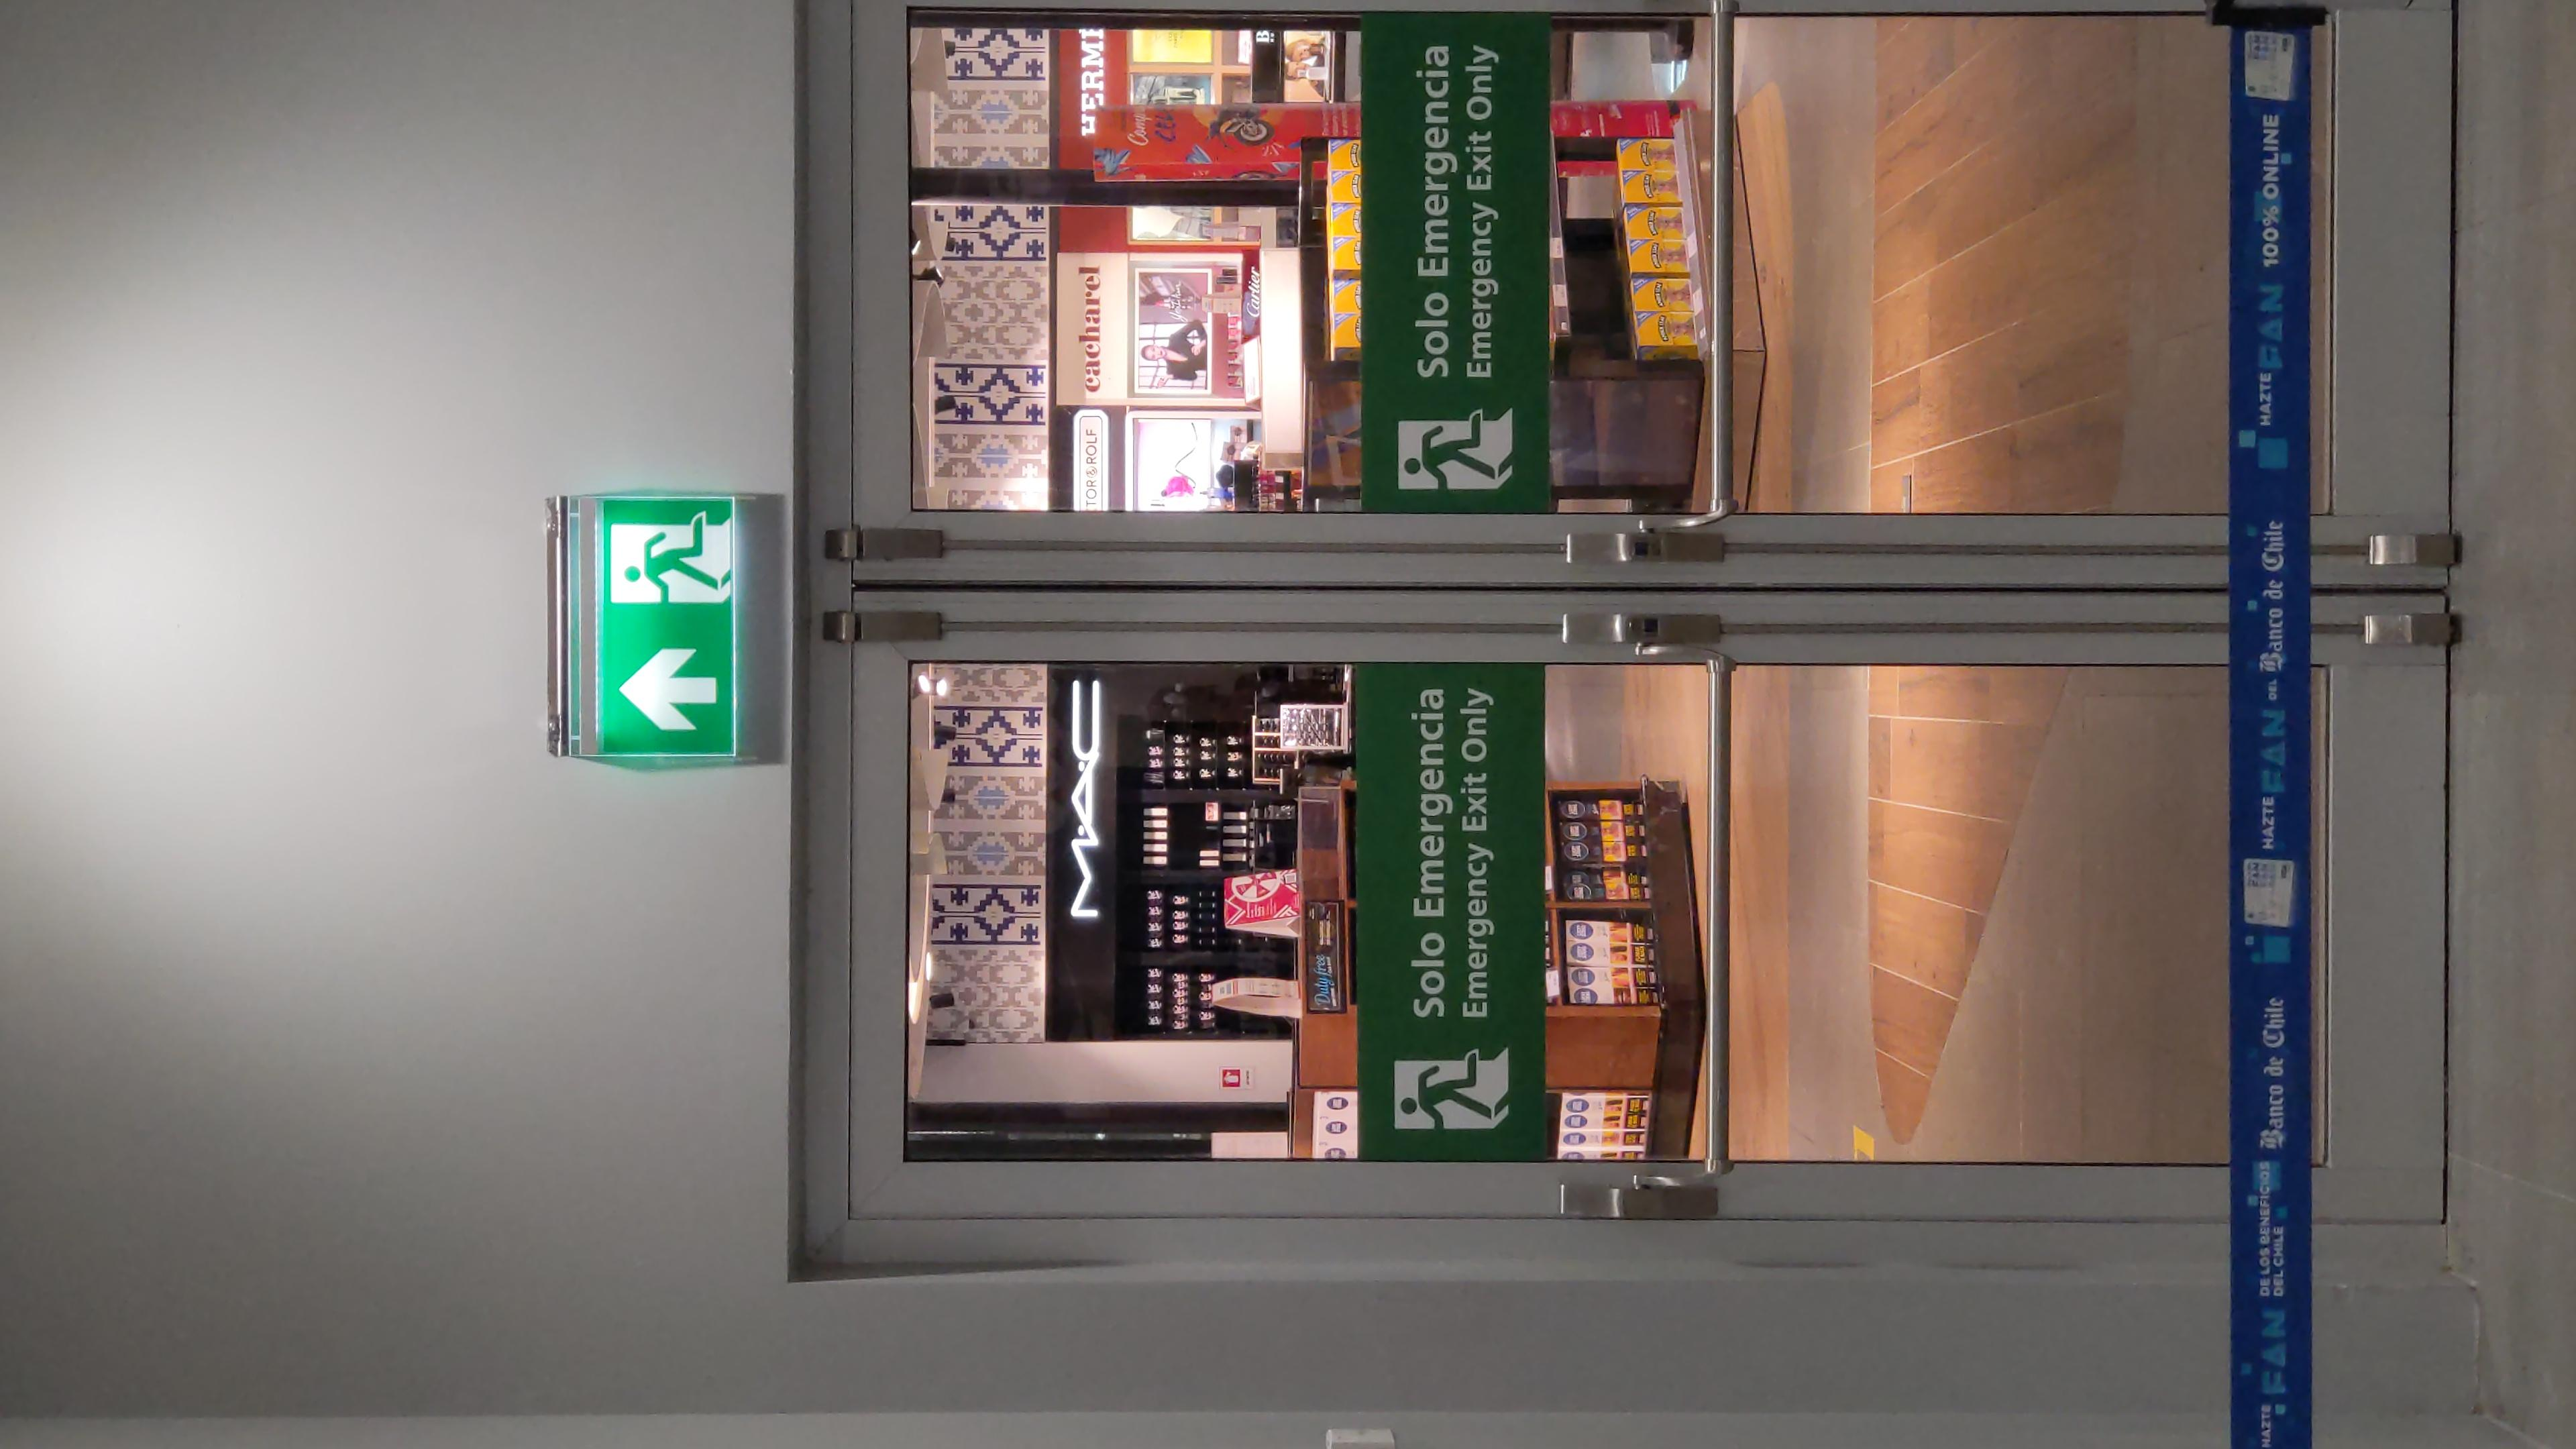emergency exit: (1495, 343, 1672, 416), (559, 780, 713, 855), (1697, 786, 1851, 853)
emergency up arrow: (1270, 345, 1431, 405)
